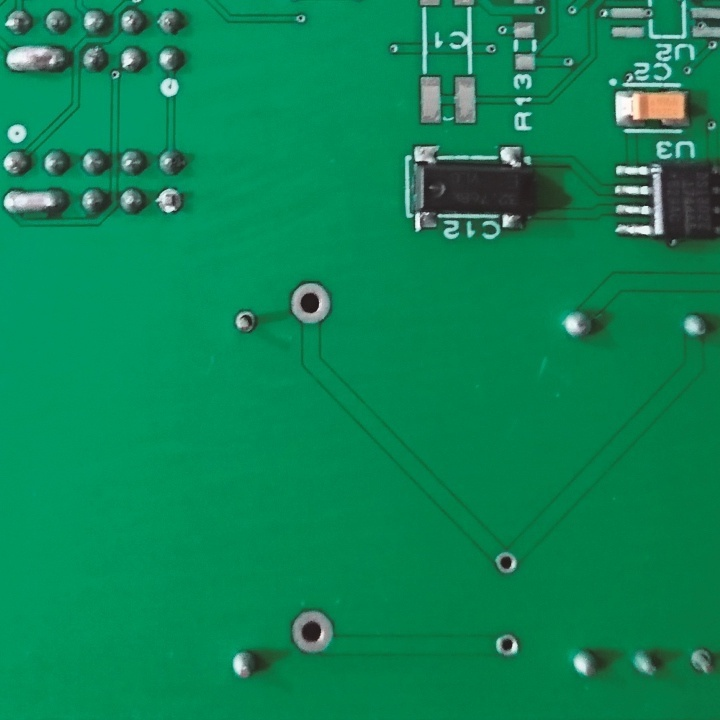F: (287, 280, 336, 327), (289, 609, 336, 656), (493, 632, 524, 659), (691, 649, 716, 679), (156, 188, 182, 216), (231, 309, 259, 335), (495, 552, 518, 575)
P: (2, 43, 73, 75), (2, 186, 73, 217)
